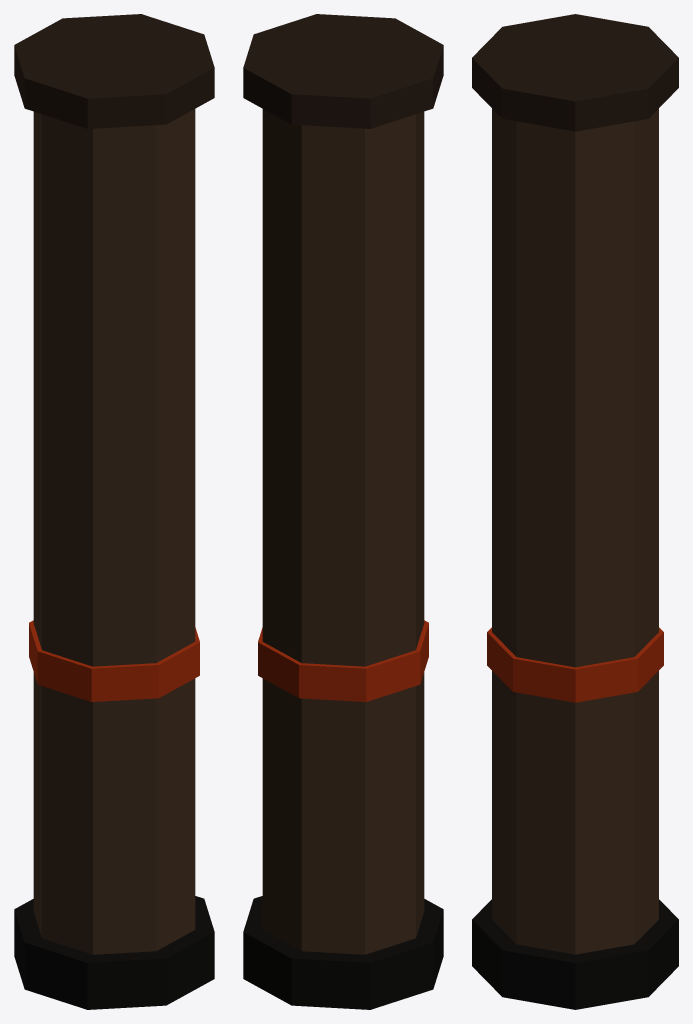
File: SM_Pillar_Round_Hideout.glb
The picture shows the model from 3 angles, left to right: view 1: azimuth 30°, elevation 25°; view 2: azimuth 150°, elevation 25°; view 3: azimuth 270°, elevation 25°; orthographic projection.
Parts seen in each view (by area): view 1: SM_Pillar_Round_Hideout-col; view 2: SM_Pillar_Round_Hideout-col; view 3: SM_Pillar_Round_Hideout-col.
Boxes of the visible parts, bbox=[...] form: SM_Pillar_Round_Hideout-col: bbox=[14, 14, 214, 1009]; SM_Pillar_Round_Hideout-col: bbox=[243, 14, 443, 1009]; SM_Pillar_Round_Hideout-col: bbox=[472, 14, 678, 1009].
Bounding box in the file's own units: 0.62 × 3 × 0.62.
